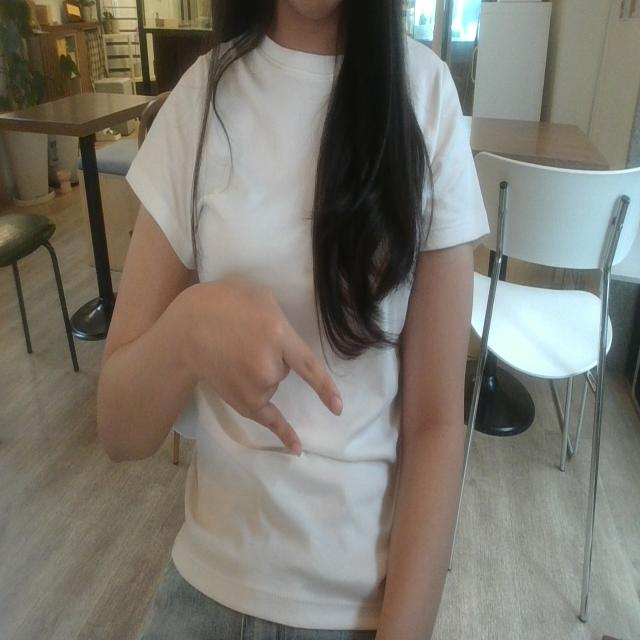ui: (188, 236, 353, 488)
